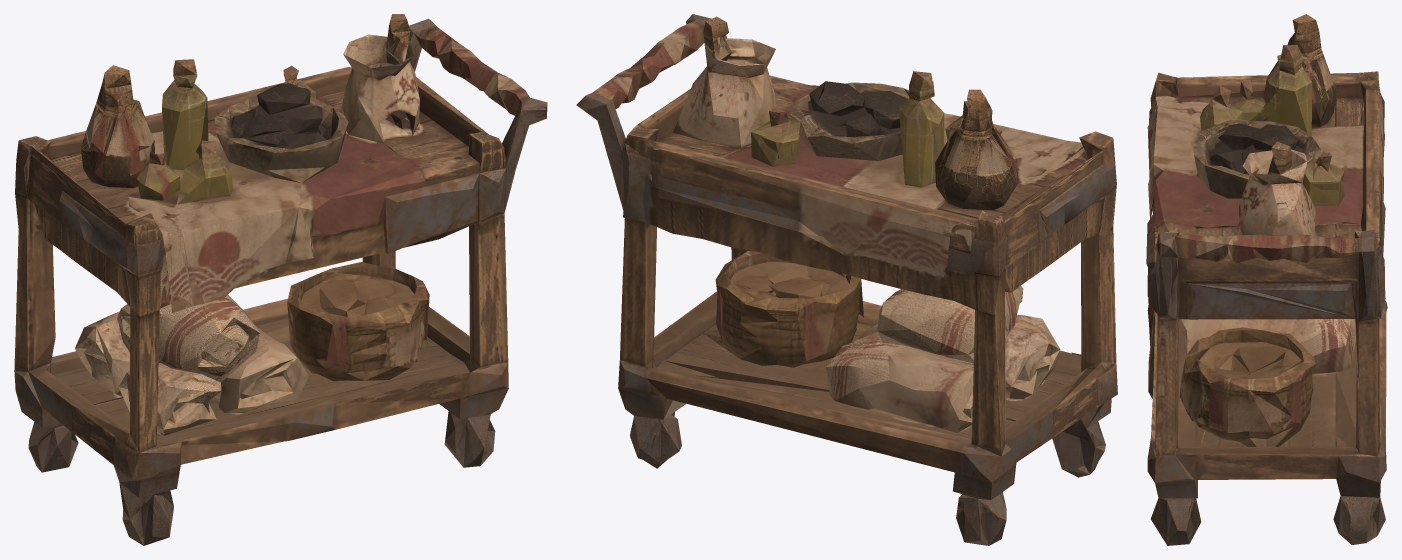
File: massage-station.glb
3 views of the same model, side by side, from view 1: azimuth 30°, elevation 25°; view 2: azimuth 150°, elevation 25°; view 3: azimuth 270°, elevation 25° (orthographic). The views are drawn at different scales.
Parts seen in each view (by area): view 1: output_unwrapped; view 2: output_unwrapped; view 3: output_unwrapped.
Part boxes in pixels (bbox=[...]): output_unwrapped: bbox=[14, 14, 547, 545]; output_unwrapped: bbox=[576, 14, 1117, 545]; output_unwrapped: bbox=[1146, 14, 1387, 545].
Size of the model in its own units: 1.07 by 1 by 0.5567.
1 material, 1 textured.
